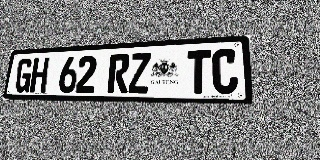2: (76, 55, 97, 93)
6: (58, 56, 79, 93)
C: (212, 48, 238, 94)
G: (14, 58, 34, 92)
H: (29, 57, 49, 93)
R: (107, 53, 130, 93)
T: (186, 50, 211, 94)
Z: (128, 52, 151, 93)
